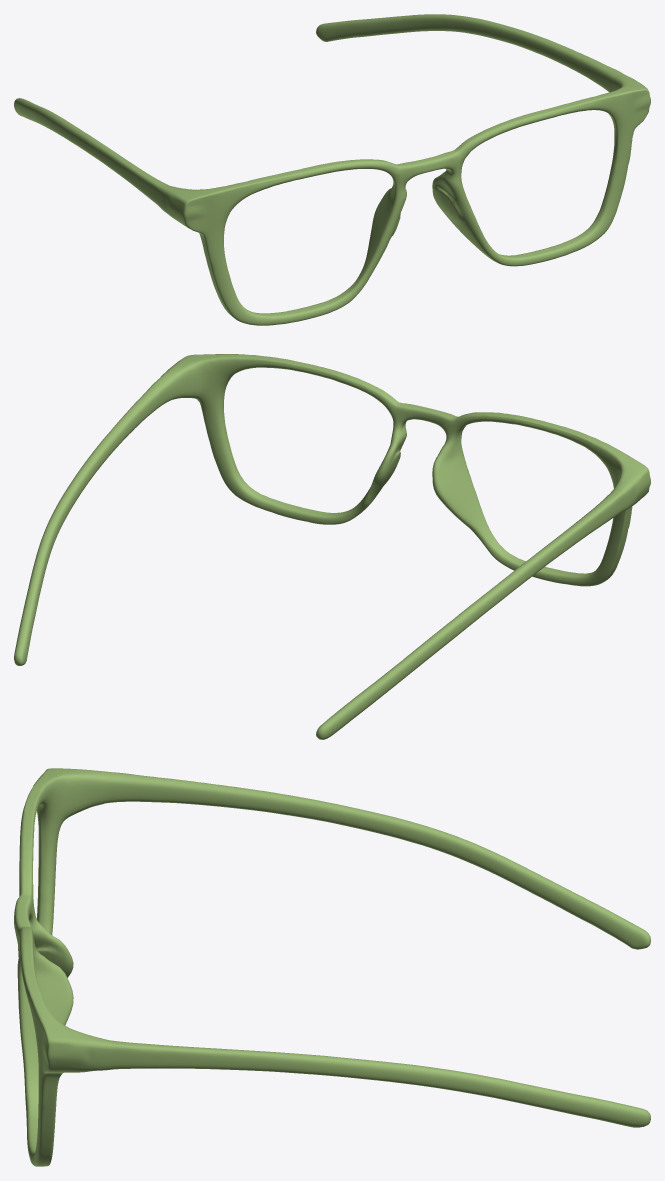
File: glass6.glb
The picture shows the model from 3 angles, top to bottom: view 1: azimuth 30°, elevation 25°; view 2: azimuth 150°, elevation 25°; view 3: azimuth 270°, elevation 25°; orthographic projection. The views are drawn at different scales.
Parts seen in each view (by area): view 1: model; view 2: model; view 3: model.
Boxes of the visible parts, x1,y1,x2,y2 form: model: (14,14,650,325); model: (14,354,650,739); model: (14,768,650,1166).
Bounding box in the file's own units: 1.9 × 0.5838 × 1.85.
